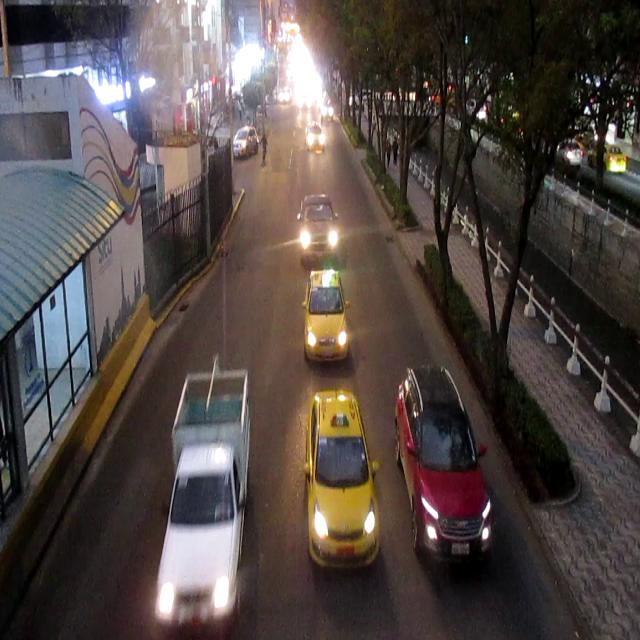CMT: (166, 372, 239, 621)
SED: (310, 388, 378, 568), (304, 276, 345, 366)
SUV: (405, 370, 495, 558), (302, 195, 340, 263), (239, 127, 257, 165)
